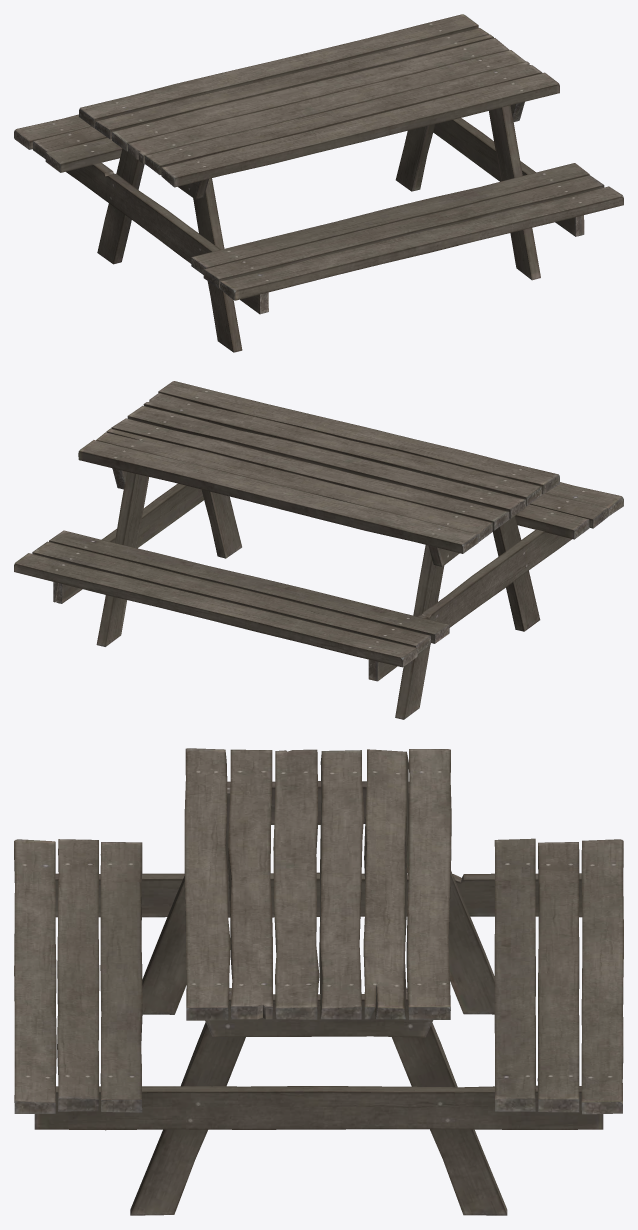
The model's file is fixture-picnic-table.glb.
3 views of the same model, one above another, from view 1: azimuth 30°, elevation 25°; view 2: azimuth 150°, elevation 25°; view 3: azimuth 270°, elevation 25° (orthographic). The views are drawn at different scales.
Parts seen in each view (by area): view 1: PicnicTable_PicnicTable_MTL_0; view 2: PicnicTable_PicnicTable_MTL_0; view 3: PicnicTable_PicnicTable_MTL_0.
Part boxes in pixels (bbox=[...]): PicnicTable_PicnicTable_MTL_0: bbox=[14, 14, 623, 352]; PicnicTable_PicnicTable_MTL_0: bbox=[14, 381, 623, 719]; PicnicTable_PicnicTable_MTL_0: bbox=[14, 748, 623, 1215].
Size of the model in its own units: 1.8 by 0.7514 by 1.77.
1 material, 1 textured.
